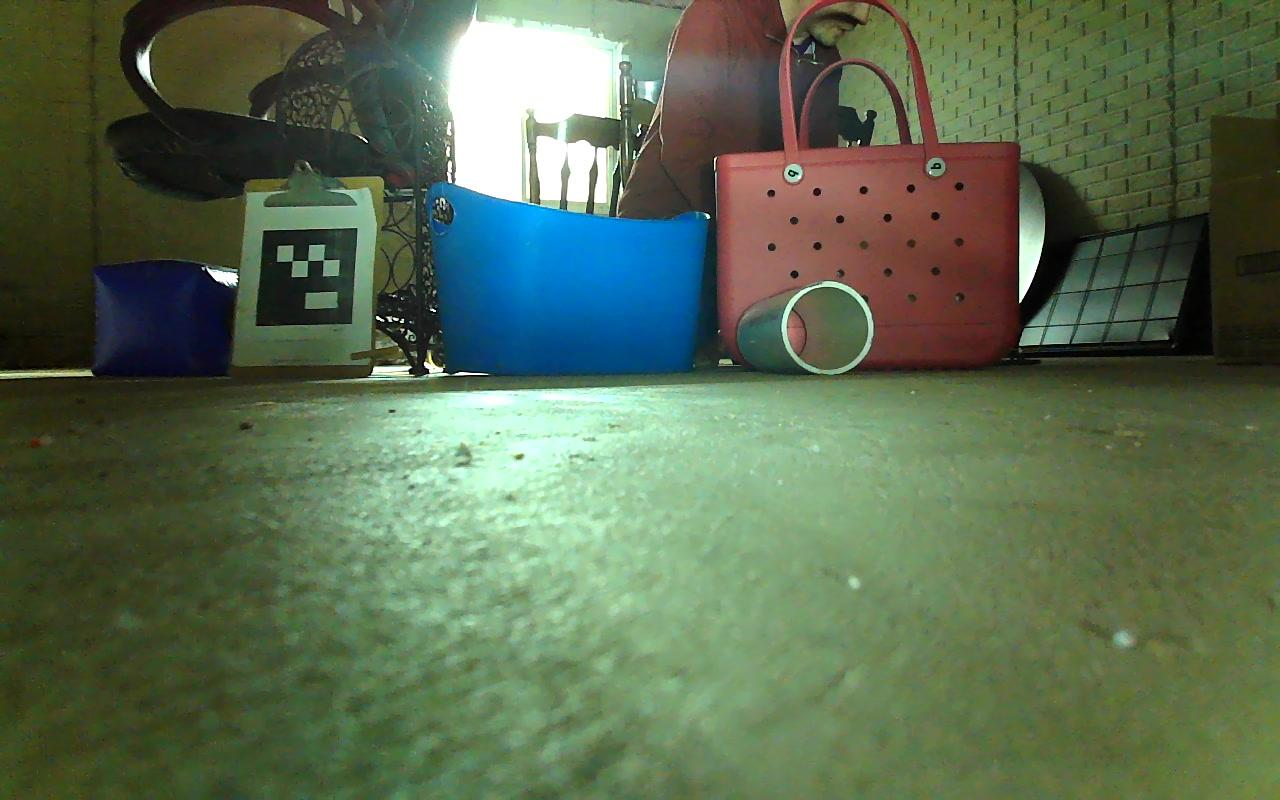coral: (737, 281, 876, 378)
